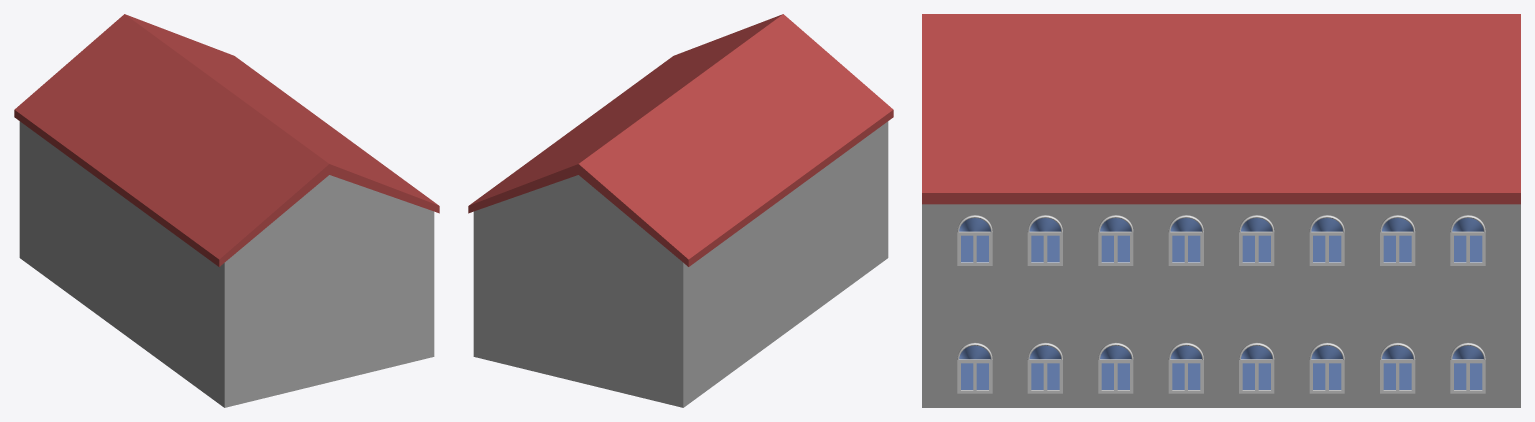
Rendered from duvar2son.fbx.
3 views of the same model, side by side, from view 1: azimuth 30°, elevation 25°; view 2: azimuth 150°, elevation 25°; view 3: azimuth 270°, elevation 25° (orthographic). The views are drawn at different scales.
Visible parts, largest first — view 1: duvar; view 2: duvar; view 3: duvar.
Boxes of the visible parts, x1=… form: duvar: x1=14, y1=14, x2=439, y2=407; duvar: x1=468, y1=14, x2=893, y2=407; duvar: x1=922, y1=14, x2=1520, y2=407.
Bounding box in the file's own units: 21100 × 20000 × 34000.
